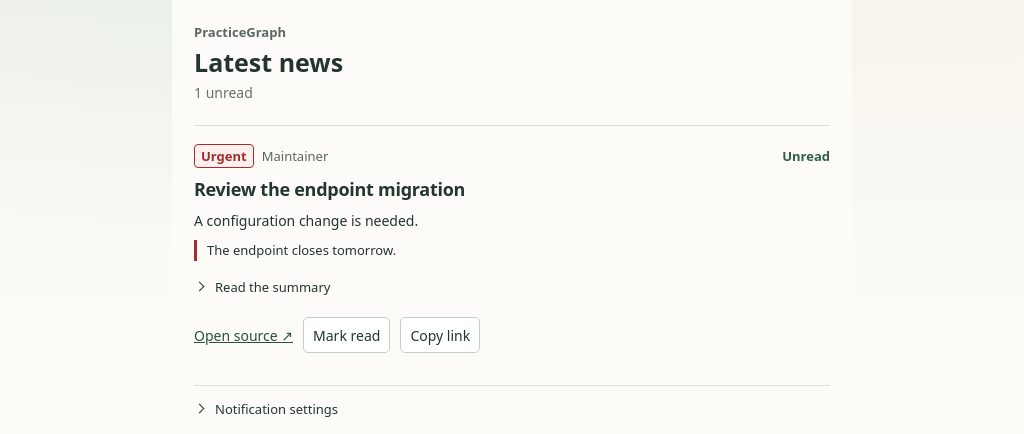
Test: news attention › records deliberate reading and updates the unread count
Click the button "Mark read" at (347, 335), box [303, 317, 390, 353]
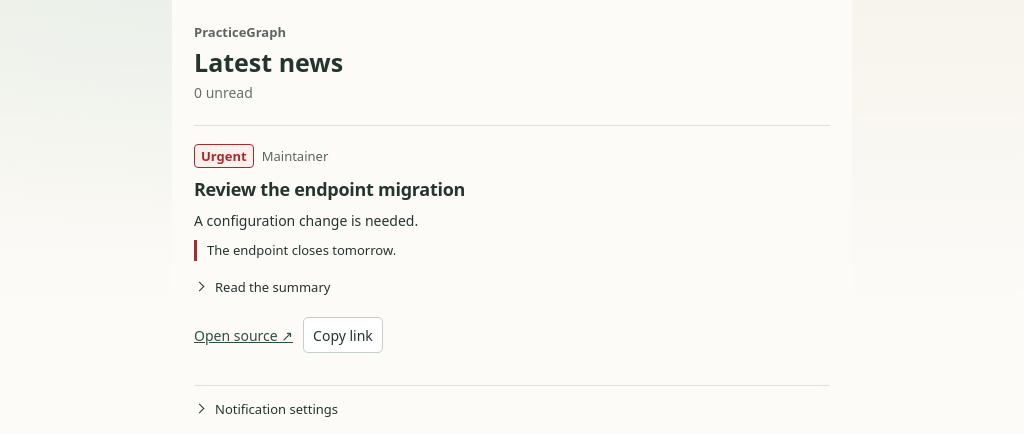
Now the text "0 unread" is shown, box [194, 83, 253, 102]
